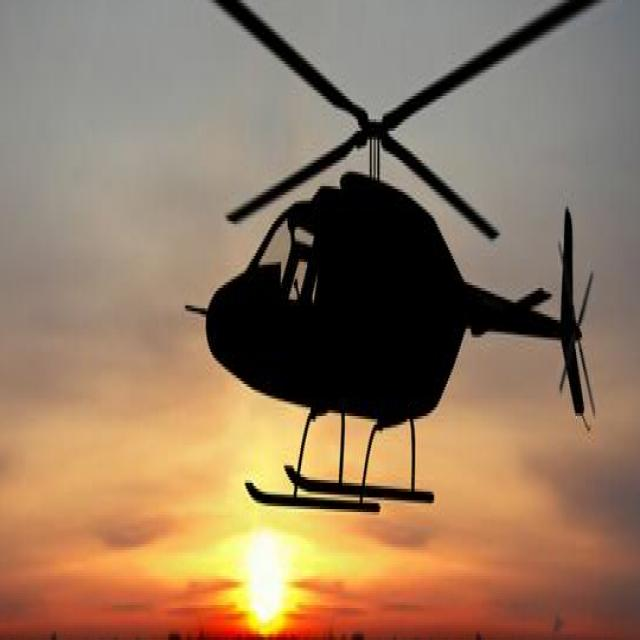helicopter: (133, 1, 620, 513)
